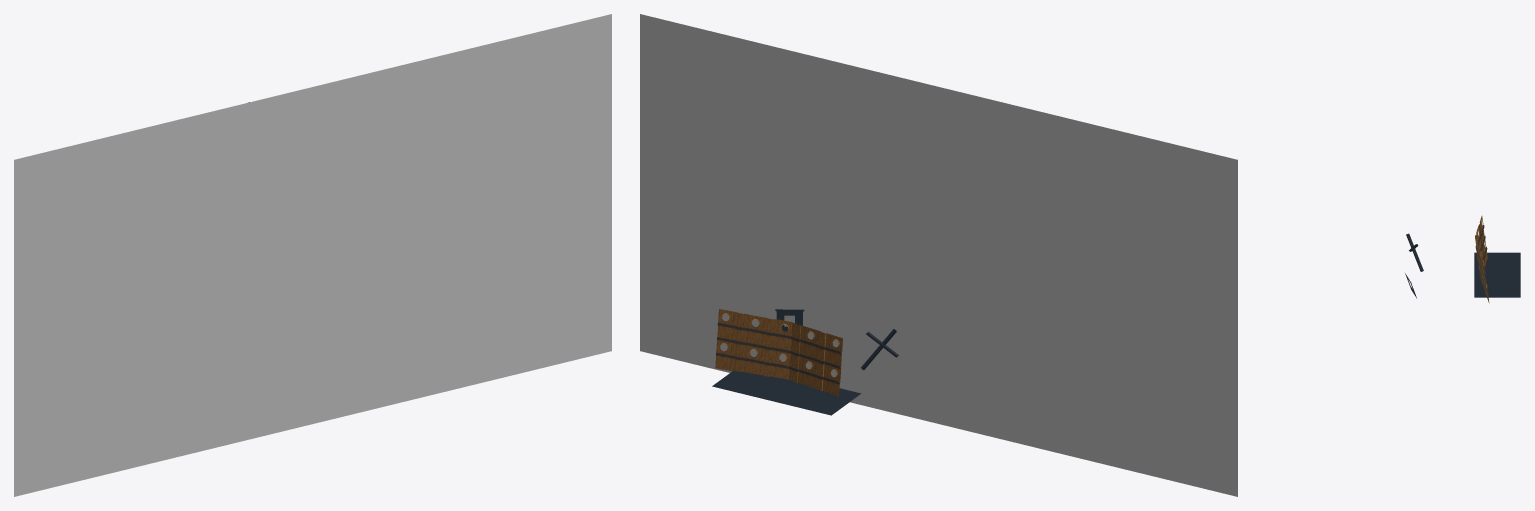
Rendered from background_01 (2).fbx.
The picture shows the model from 3 angles, left to right: view 1: azimuth 30°, elevation 25°; view 2: azimuth 150°, elevation 25°; view 3: azimuth 270°, elevation 25°; orthographic projection. The views are drawn at different scales.
Parts seen in each view (by area): view 1: Scene2; view 2: Scene2; view 3: Scene2.
Boxes of the visible parts, x1=… form: Scene2: x1=14, y1=14, x2=611, y2=496; Scene2: x1=640, y1=14, x2=1237, y2=496; Scene2: x1=1405, y1=216, x2=1520, y2=302.
Bounding box in the file's own units: 12495 × 6735 × 5994.
